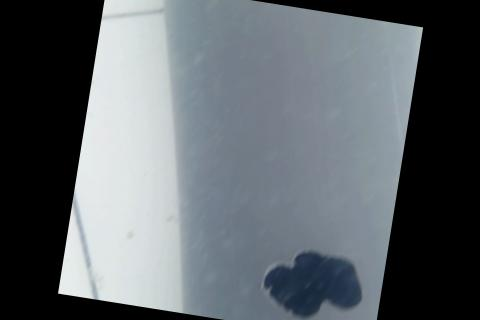kebocoran: (254, 242, 370, 320)
